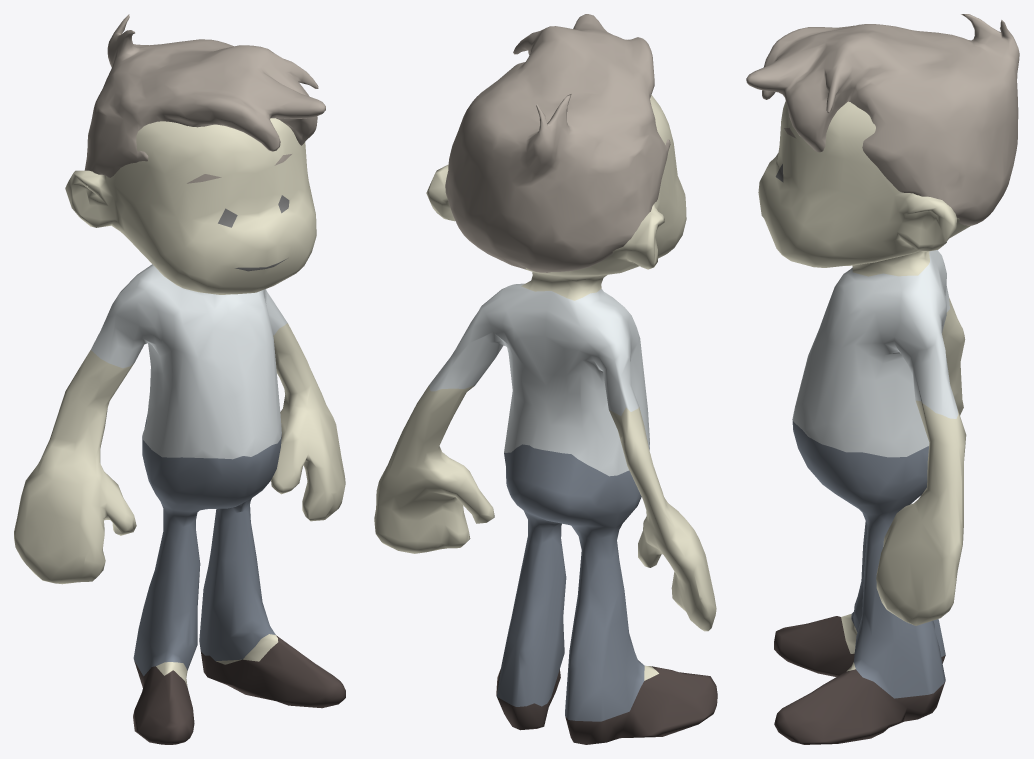
File: red.fbx
The picture shows the model from 3 angles, left to right: view 1: azimuth 30°, elevation 25°; view 2: azimuth 150°, elevation 25°; view 3: azimuth 270°, elevation 25°; orthographic projection. The views are drawn at different scales.
Parts seen in each view (by area): view 1: PM3D_Sphere3D1_3; view 2: PM3D_Sphere3D1_3; view 3: PM3D_Sphere3D1_3.
Part boxes in pixels (x1,y1,x2,y2): PM3D_Sphere3D1_3: (14, 14, 345, 744); PM3D_Sphere3D1_3: (374, 14, 717, 744); PM3D_Sphere3D1_3: (746, 14, 1019, 744).
Bounding box in the file's own units: 5.06 × 9.77 × 3.56.
